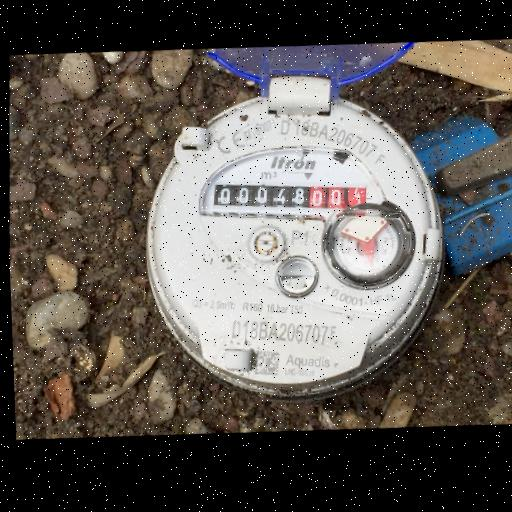0: (326, 185, 349, 210), (214, 182, 235, 206), (234, 183, 254, 206), (253, 183, 272, 207), (308, 185, 327, 209)
4: (346, 184, 367, 208), (271, 183, 290, 207)
8: (289, 184, 308, 208)
border_water_meter_number: (211, 170, 368, 227)
